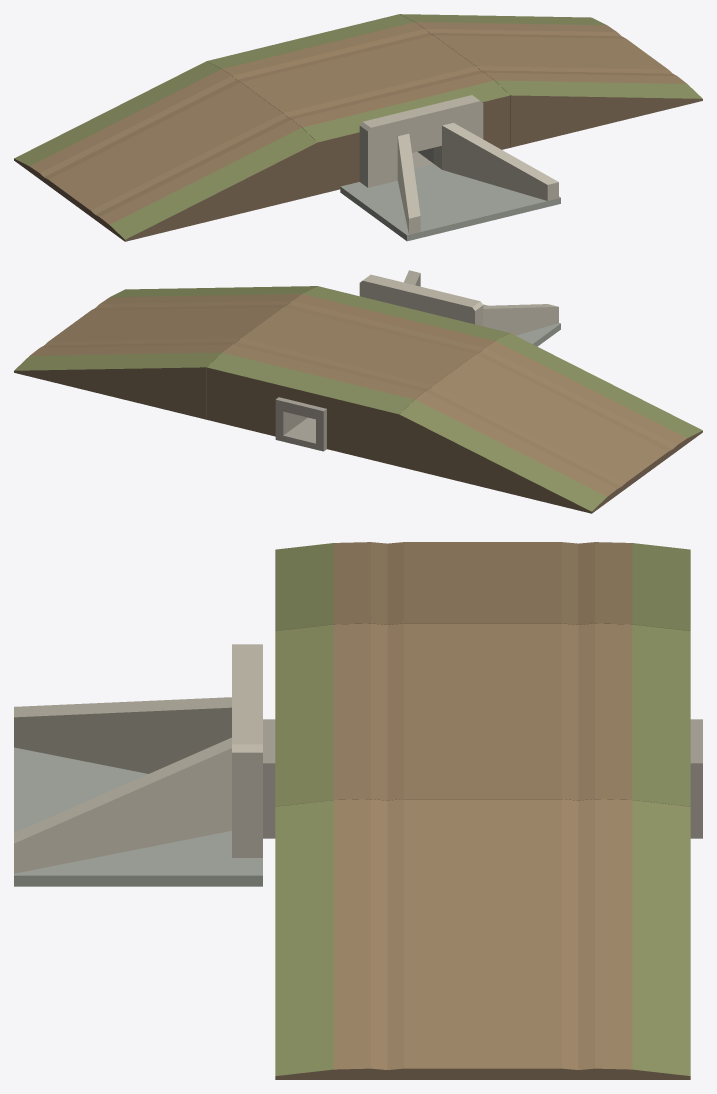
3 renders of one model, top to bottom at view 1: azimuth 30°, elevation 25°; view 2: azimuth 150°, elevation 25°; view 3: azimuth 270°, elevation 25°, orthographic. The views are drawn at different scales.
Parts seen in each view (by area): view 1: WestGrade__village-soil-road-grade-2m-01, RoadCulvert__village-stone-box-culvert-2m-01, EastGrade__village-soil-road-grade-2m-01, FrontHeadwall__WholeGroundedInletApron, FrontHeadwall__WholePiercedCulvertHeadwall, FrontHeadwall__WholeRisingFlaredWing1, FrontHeadwall__WholeRisingFlaredWing-1; view 2: WestGrade__village-soil-road-grade-2m-01, RoadCulvert__village-stone-box-culvert-2m-01, EastGrade__village-soil-road-grade-2m-01, FrontHeadwall__WholePiercedCulvertHeadwall, FrontHeadwall__WholeRisingFlaredWing-1, FrontHeadwall__WholeGroundedInletApron; view 3: EastGrade__village-soil-road-grade-2m-01, RoadCulvert__village-stone-box-culvert-2m-01, WestGrade__village-soil-road-grade-2m-01, FrontHeadwall__WholeRisingFlaredWing1, FrontHeadwall__WholeGroundedInletApron, FrontHeadwall__WholeRisingFlaredWing-1, FrontHeadwall__WholePiercedCulvertHeadwall.
Boxes of the visible parts, x1,y1,x2,y2 form: WestGrade__village-soil-road-grade-2m-01: (14,61,317,241); RoadCulvert__village-stone-box-culvert-2m-01: (207,14,510,194); EastGrade__village-soil-road-grade-2m-01: (399,14,702,147); FrontHeadwall__WholeGroundedInletApron: (340,164,560,241); FrontHeadwall__WholePiercedCulvertHeadwall: (359,95,483,187); FrontHeadwall__WholeRisingFlaredWing1: (442,123,558,200); FrontHeadwall__WholeRisingFlaredWing-1: (397,133,420,234); WestGrade__village-soil-road-grade-2m-01: (399,333,702,513); RoadCulvert__village-stone-box-culvert-2m-01: (206,286,509,466); EastGrade__village-soil-road-grade-2m-01: (14,286,317,419); FrontHeadwall__WholePiercedCulvertHeadwall: (359,274,483,326); FrontHeadwall__WholeRisingFlaredWing-1: (483,304,558,335); FrontHeadwall__WholeGroundedInletApron: (483,304,560,346); EastGrade__village-soil-road-grade-2m-01: (275,799,690,1079); RoadCulvert__village-stone-box-culvert-2m-01: (263,623,702,838); WestGrade__village-soil-road-grade-2m-01: (275,542,690,630); FrontHeadwall__WholeRisingFlaredWing1: (14,737,231,873); FrontHeadwall__WholeGroundedInletApron: (14,747,262,886); FrontHeadwall__WholeRisingFlaredWing-1: (14,697,231,773); FrontHeadwall__WholePiercedCulvertHeadwall: (232,644,262,857).
Size of the model in its own units: 6 by 0.65 by 3.32.
